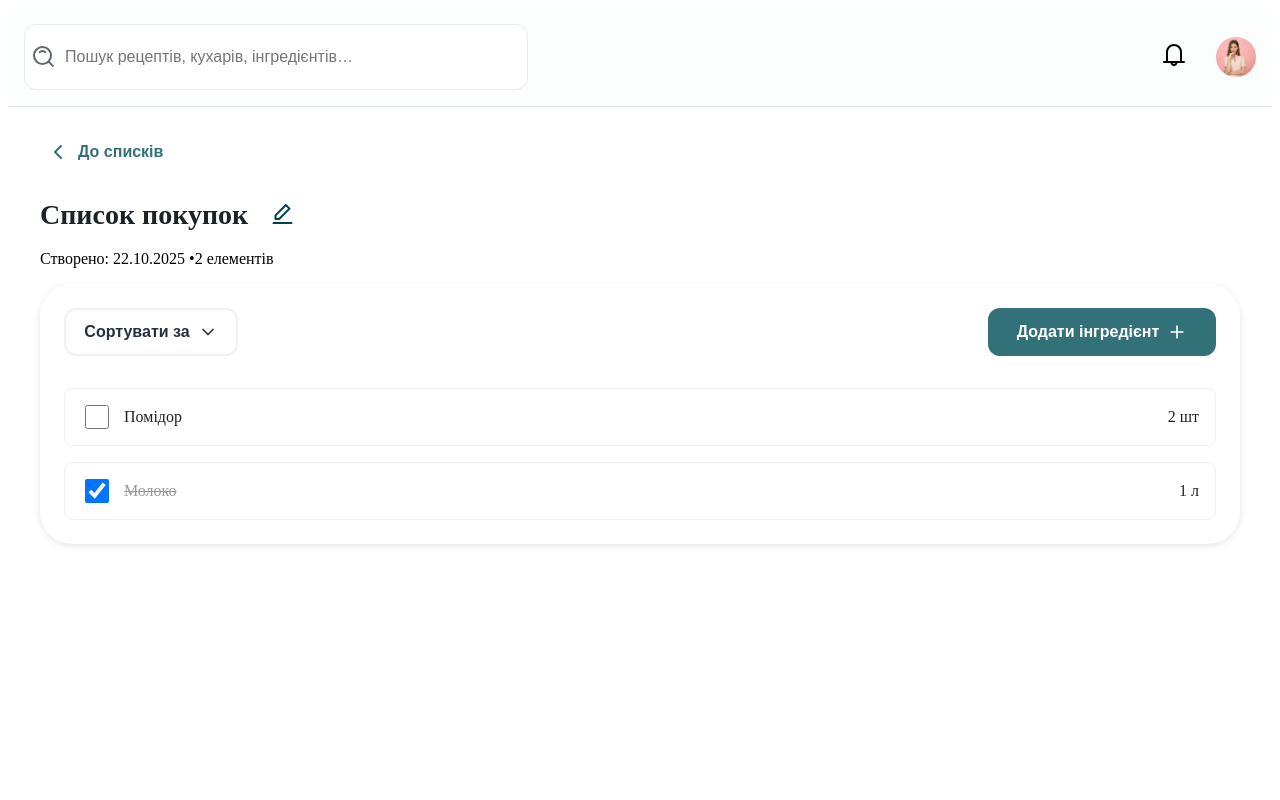
Test case: ShoppingListDetailPage › открытие модального окна добавления ингредиента
Click the button "Додати інгредієнт" at (1102, 332), box x1=988 y1=308 x2=1216 y2=356
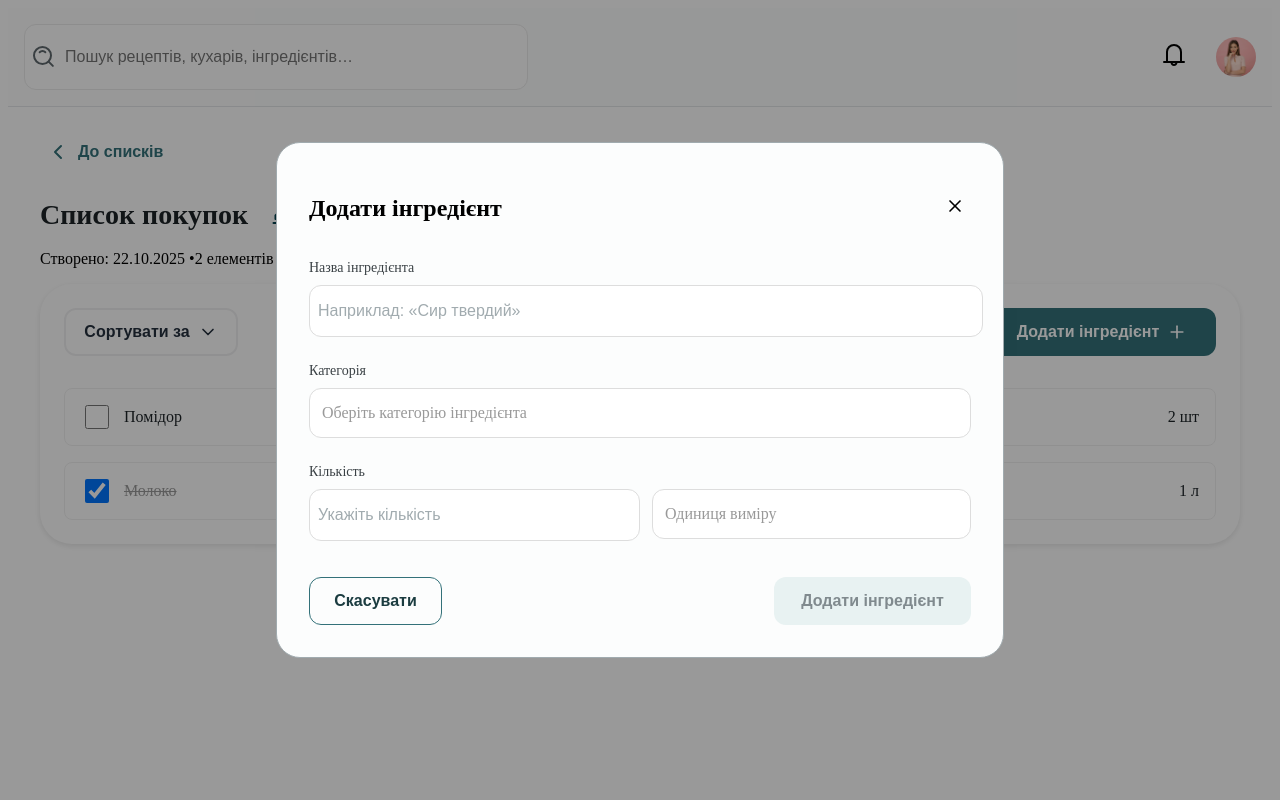
Check: the heading "Додати інгредієнт" is shown, box x1=309 y1=195 x2=502 y2=222
